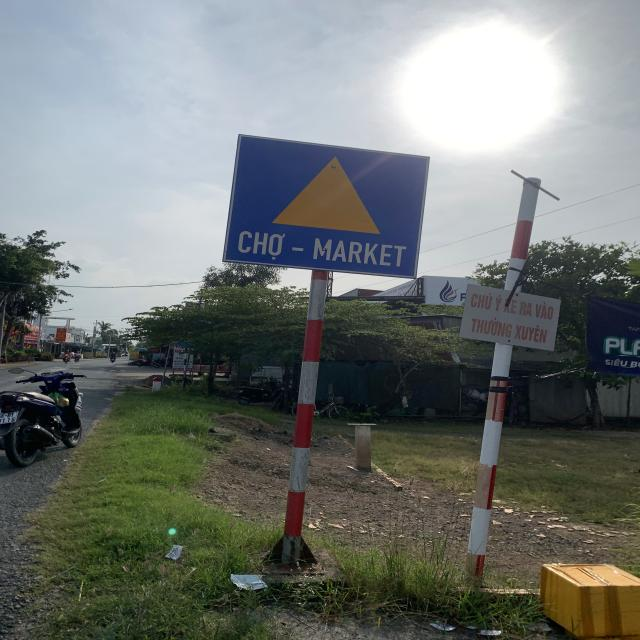Cho_Quay_Xe: (220, 134, 432, 276)
